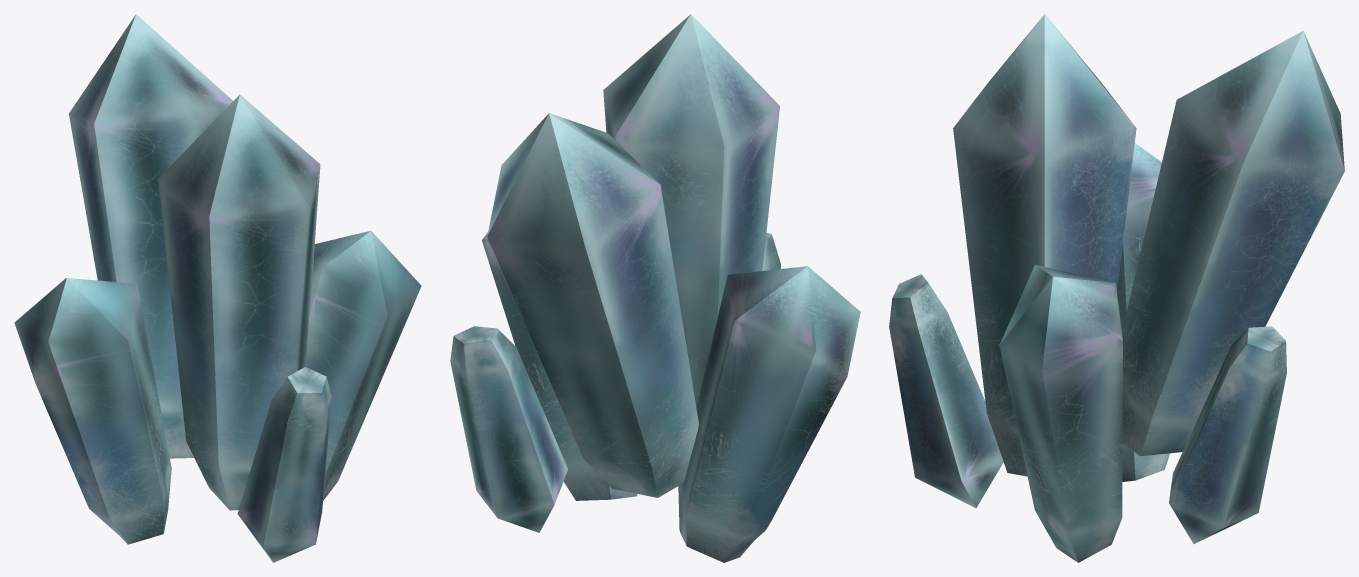
File: 2. Crystals.fbx
The picture shows the model from 3 angles, left to right: view 1: azimuth 30°, elevation 25°; view 2: azimuth 150°, elevation 25°; view 3: azimuth 270°, elevation 25°; orthographic projection. The views are drawn at different scales.
Visible parts, largest first — view 1: pCylinder13, pCylinder14; view 2: pCylinder14, pCylinder13; view 3: pCylinder14, pCylinder13.
Part boxes in pixels (bbox=[...]): pCylinder13: bbox=[14, 94, 331, 562]; pCylinder14: bbox=[69, 14, 421, 500]; pCylinder14: bbox=[450, 113, 698, 532]; pCylinder13: bbox=[603, 14, 860, 562]; pCylinder14: bbox=[999, 31, 1344, 562]; pCylinder13: bbox=[889, 14, 1169, 507].
Size of the model in its own units: 1.49 by 1.83 by 1.5.
1 material, 1 textured.
